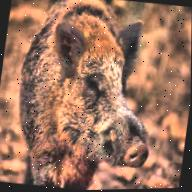boar: (6, 0, 168, 192)
